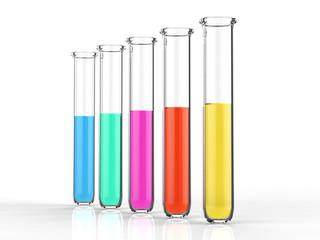Test tube: (204, 10, 233, 223), (126, 27, 157, 213), (69, 39, 96, 210)
